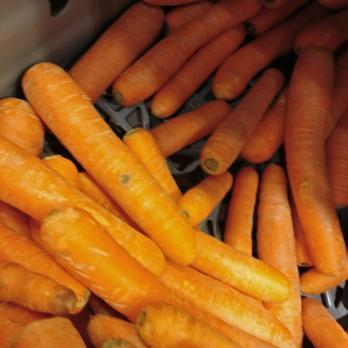Carrot: (0, 61, 130, 348), (128, 124, 261, 343), (124, 0, 348, 116), (262, 124, 348, 348)
